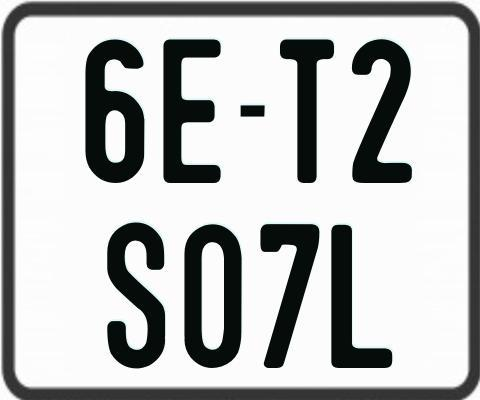0: (183, 223, 242, 368)
2: (349, 37, 410, 184)
6: (85, 37, 148, 181)
7: (259, 221, 319, 367)
E: (163, 37, 227, 181)
L: (330, 222, 394, 365)
S: (105, 220, 168, 367)
T: (280, 38, 340, 182)
